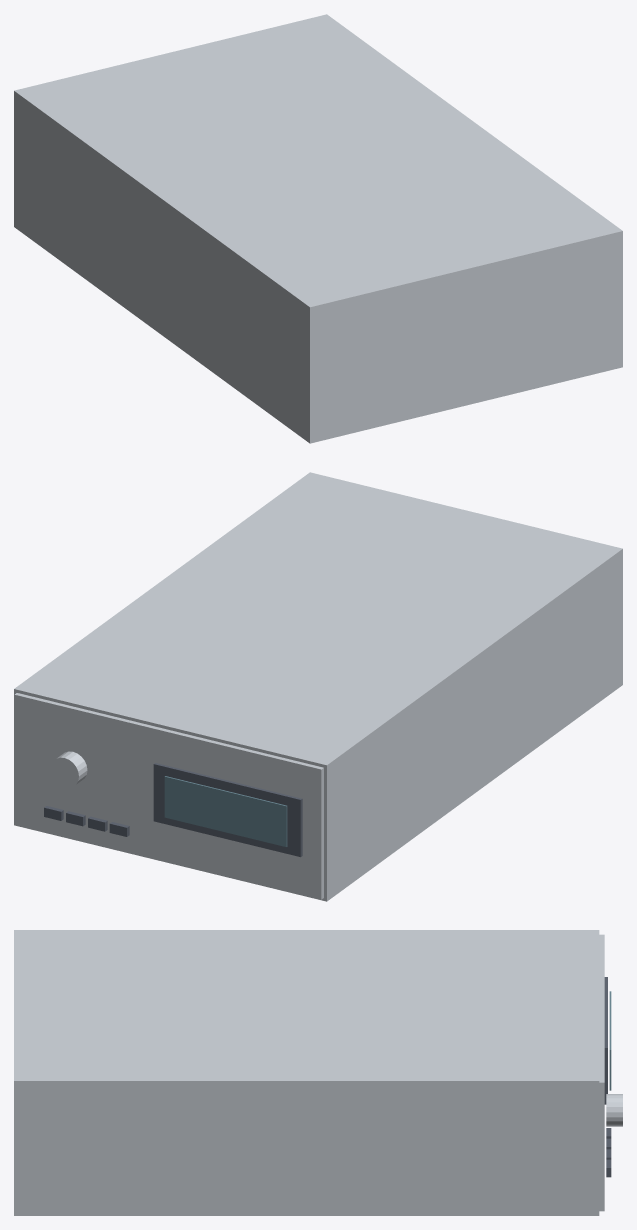
File: wst-power-supply.glb
The picture shows the model from 3 angles, top to bottom: view 1: azimuth 30°, elevation 25°; view 2: azimuth 150°, elevation 25°; view 3: azimuth 270°, elevation 25°; orthographic projection.
Parts seen in each view (by area): view 1: silver enclosure; view 2: silver enclosure, front panel, screen glass, black display bezel, silver rotary control; view 3: silver enclosure, front panel, silver rotary control, black display bezel.
Boxes of the visible parts, x1,y1,x2,y2 form: silver enclosure: (14,14,622,443); silver enclosure: (14,472,622,901); front panel: (14,693,323,899); screen glass: (164,776,287,846); black display bezel: (153,763,302,857); silver rotary control: (50,751,87,788); silver enclosure: (14,930,599,1215); front panel: (599,934,604,1211); silver rotary control: (606,1094,622,1126); black display bezel: (604,977,607,1104).
Size of the model in its own units: 0.2126 by 0.0965 by 0.3623.
